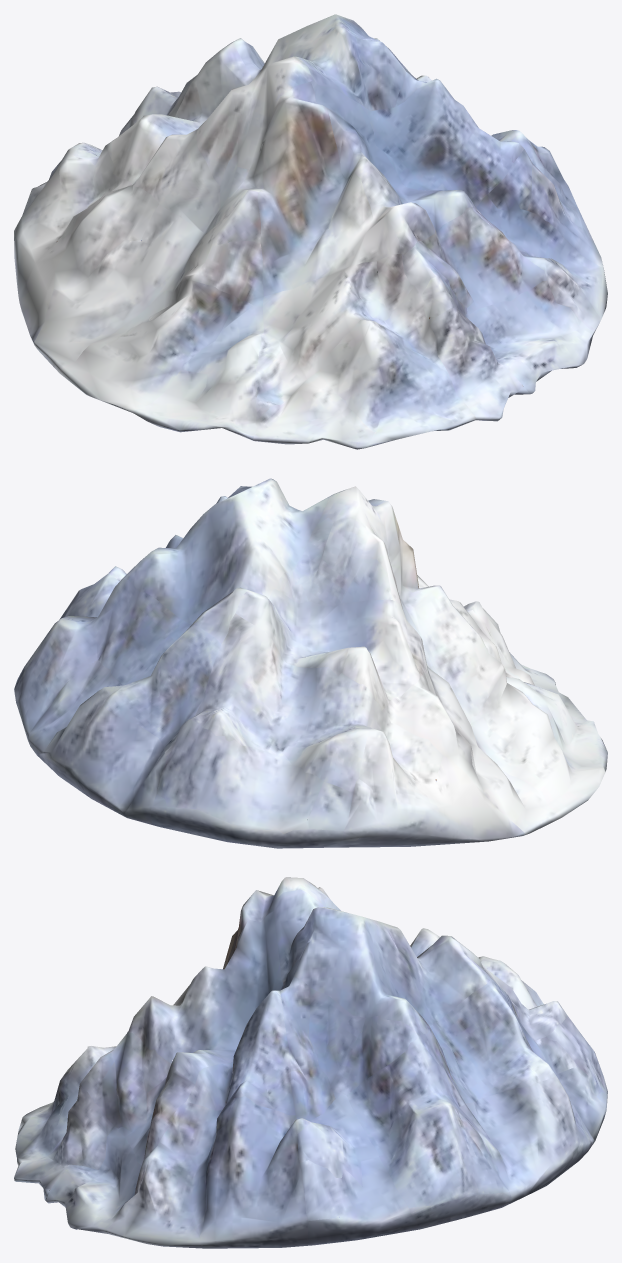
The model's file is dio_mountain.glb.
3 views of the same model, one above another, from view 1: azimuth 30°, elevation 25°; view 2: azimuth 150°, elevation 25°; view 3: azimuth 270°, elevation 25° (orthographic).
Parts seen in each view (by area): view 1: tripo_part_1; view 2: tripo_part_1; view 3: tripo_part_1.
Boxes of the visible parts, x1=… form: tripo_part_1: x1=14, y1=14, x2=607, y2=449; tripo_part_1: x1=14, y1=478, x2=607, y2=848; tripo_part_1: x1=14, y1=877, x2=607, y2=1248.
Size of the model in its own units: 0.3102 by 0.1634 by 0.319.
Materials: 1 (1 with a texture image).
